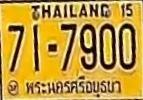0: (118, 22, 135, 68), (99, 23, 116, 69)
1: (32, 24, 38, 70)
7: (7, 24, 24, 70), (60, 23, 76, 69)
9: (79, 23, 96, 69)
AYA: (23, 75, 125, 100)
